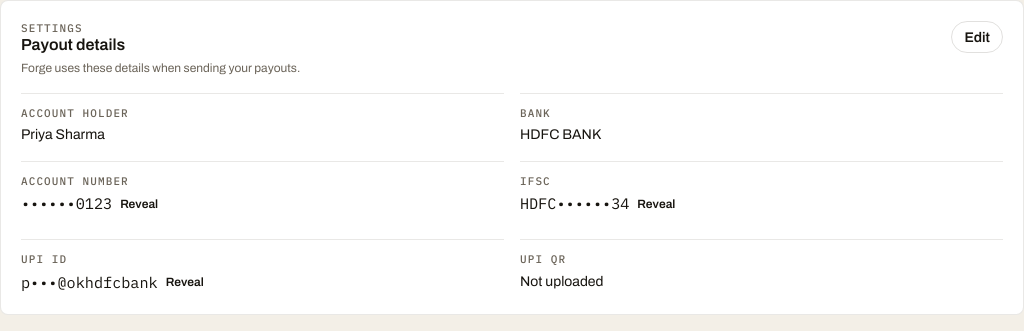
Test case: PayoutSettingsPanel — masking › masks account number, IFSC, and UPI ID by default, and reveals on demand
Expected: the text "Priya Sharma" is shown, [21,127,105,142]
Expected: the text "HDFC BANK" is shown, [520,127,601,142]
Click the button with aria-label "reveal account number": (139, 204) [120,195,158,213]
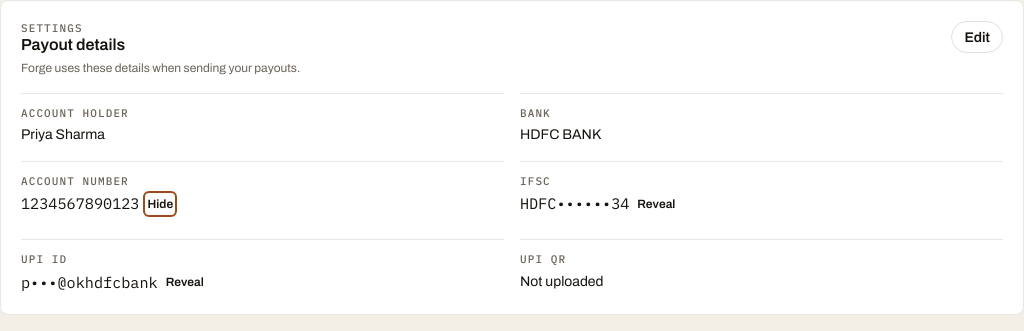
Now the text "1234567890123" is shown, box [21,192,140,215]
Now the button with aria-label "hide account number" is shown, box [148,195,173,213]
